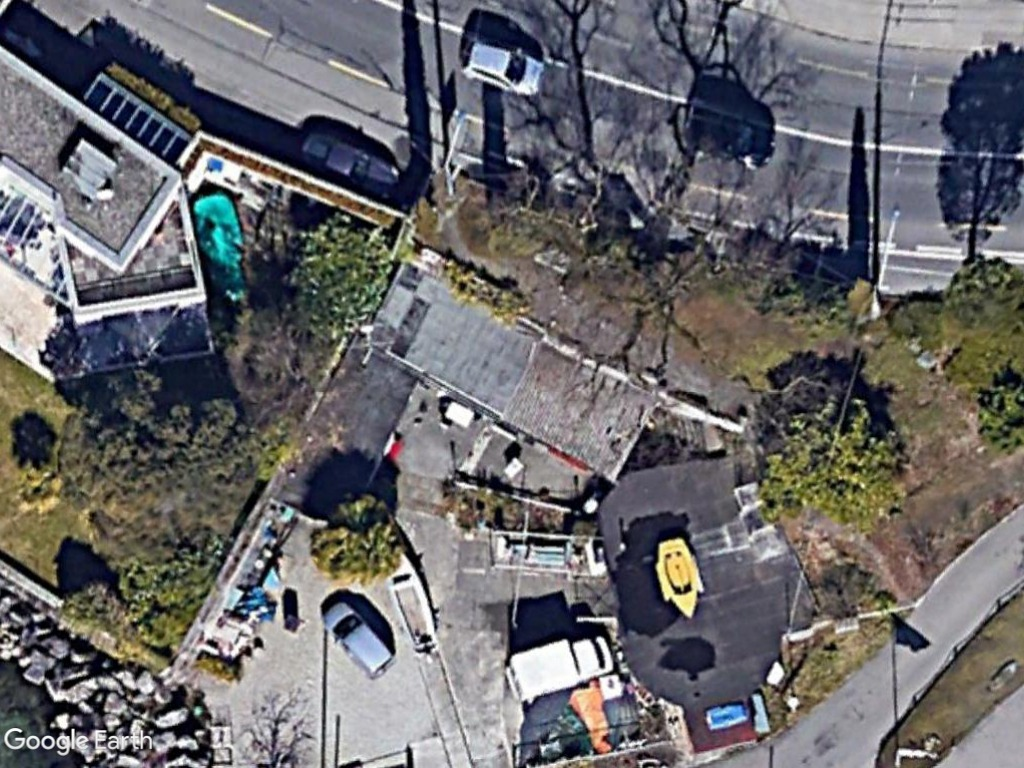car: (294, 128, 405, 208), (316, 596, 398, 684), (457, 32, 549, 101)
truck: (502, 633, 617, 705)
